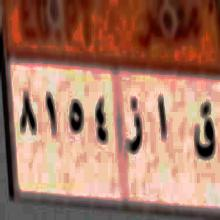1: (44, 88, 59, 145)
4: (94, 94, 108, 154)
5: (69, 95, 85, 143)
8: (16, 84, 36, 146)
alif: (153, 87, 171, 151)
qaaf: (192, 97, 218, 168)
zay: (124, 94, 143, 164)
